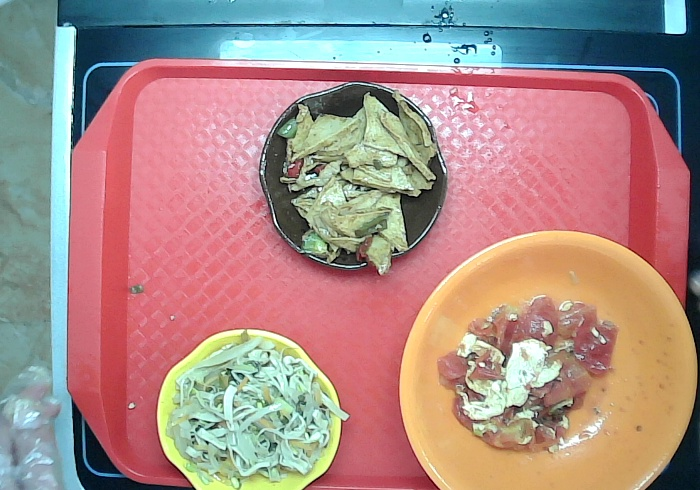YKMZ-Huang_Se_Ao_Bian_Wan: (148, 326, 344, 490)
YKMZ-Ju_Se_Tang_Wan: (395, 223, 700, 490)
YKMZ-Ka_Fei_Ao_Bian_Wan: (252, 79, 452, 275)
